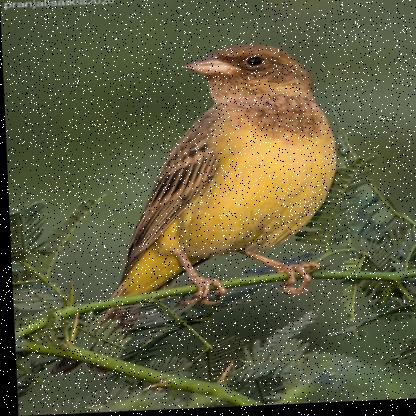Burung: (77, 44, 347, 341)
